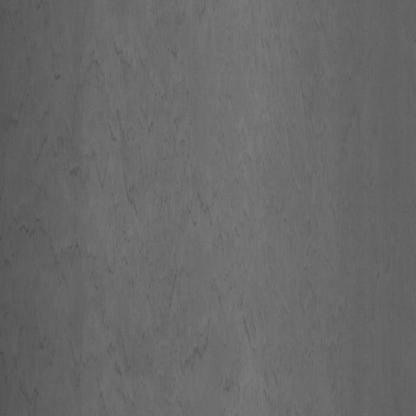silk_spot: (58, 77, 219, 243), (0, 281, 132, 400), (150, 259, 260, 390)
